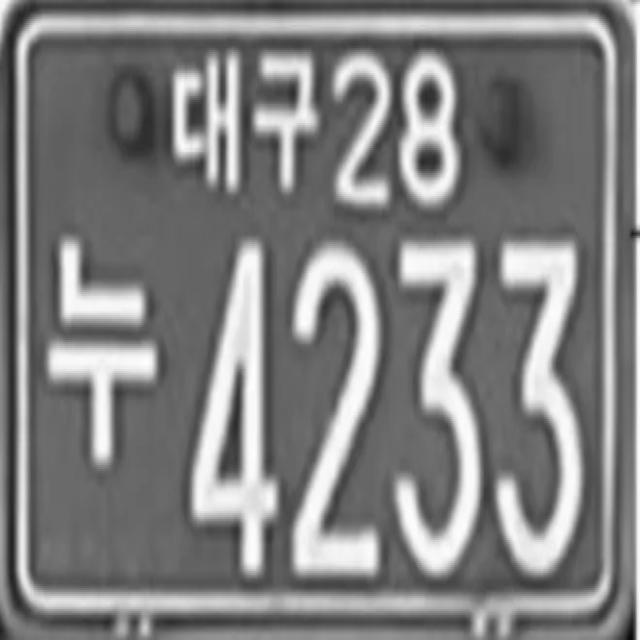car: (2, 1, 640, 640)
